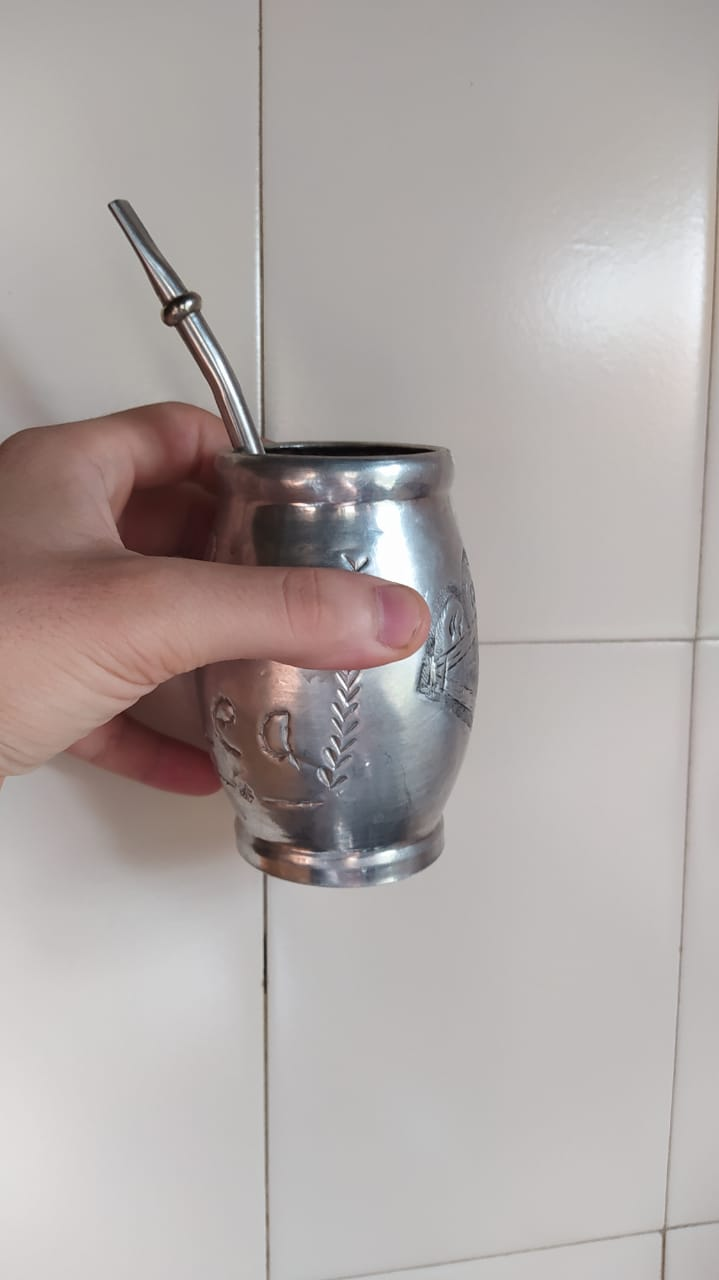mate: (98, 190, 485, 889)
metal: (100, 192, 487, 891)
